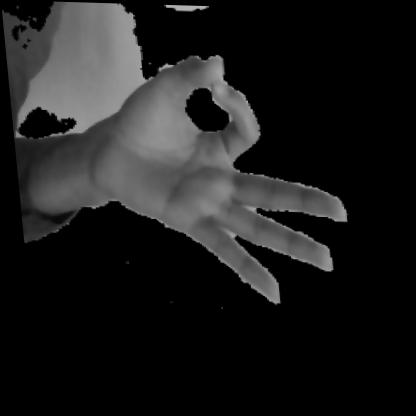ok: (43, 23, 373, 324)
